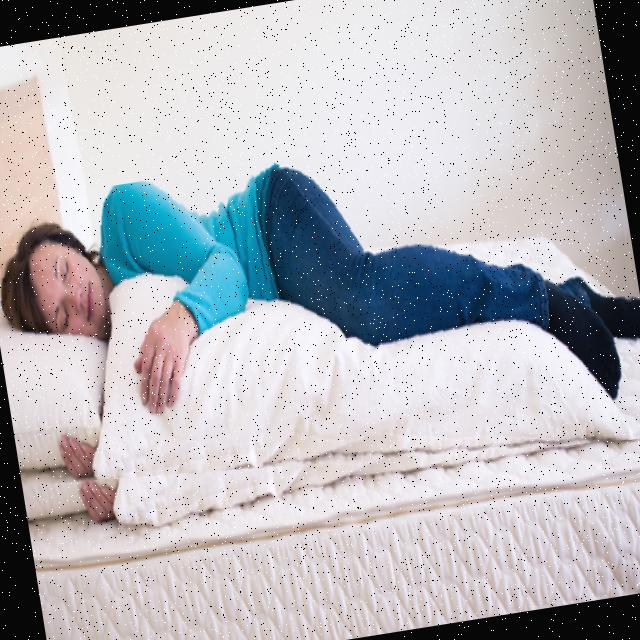people: (0, 107, 640, 536)
